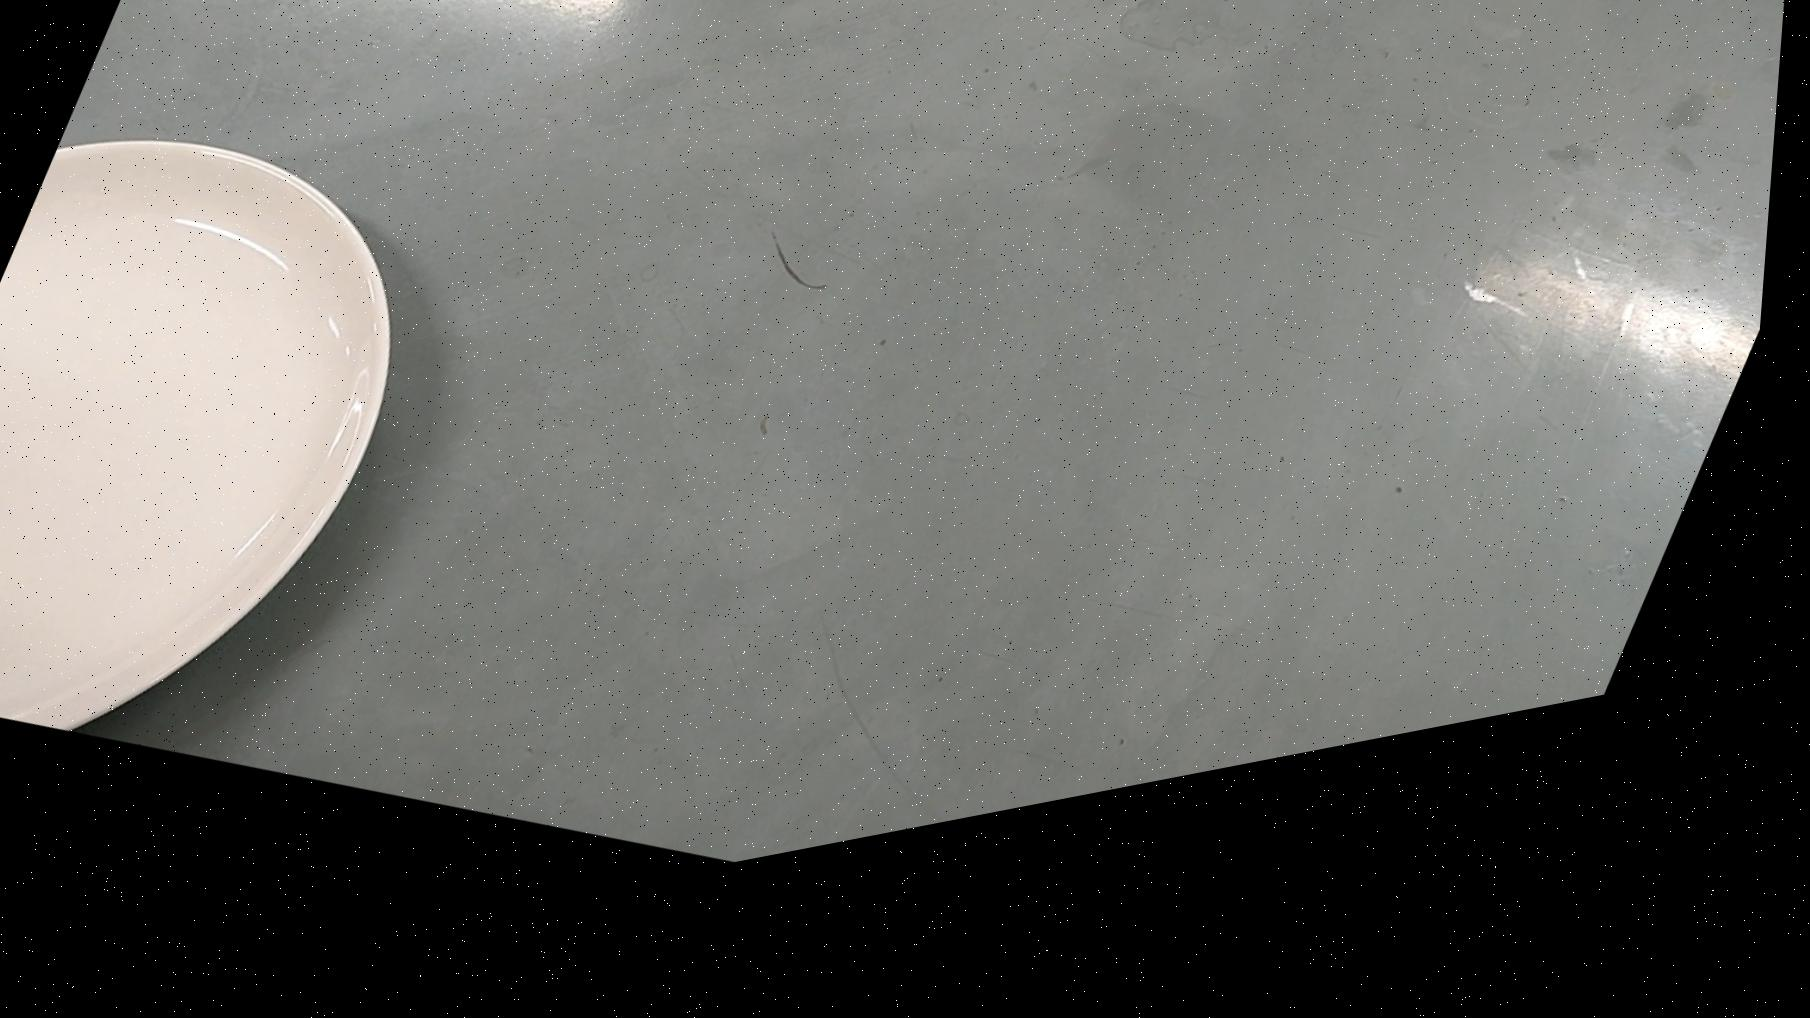plate: (0, 53, 496, 822)
